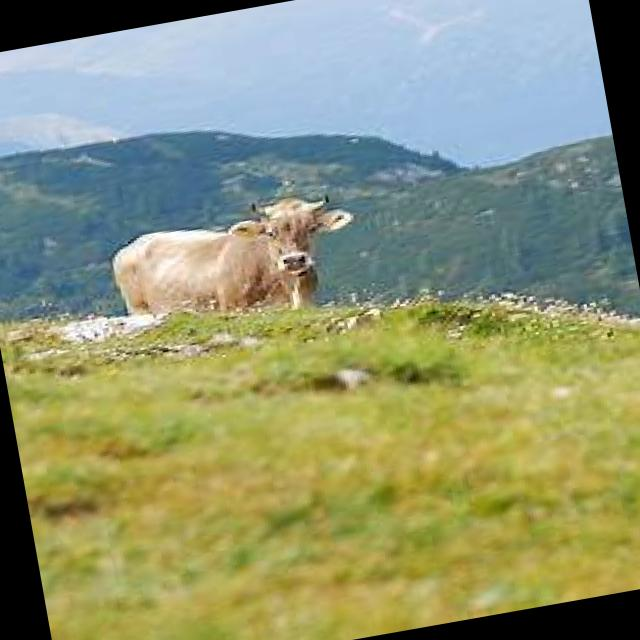animal: (103, 183, 367, 339)
